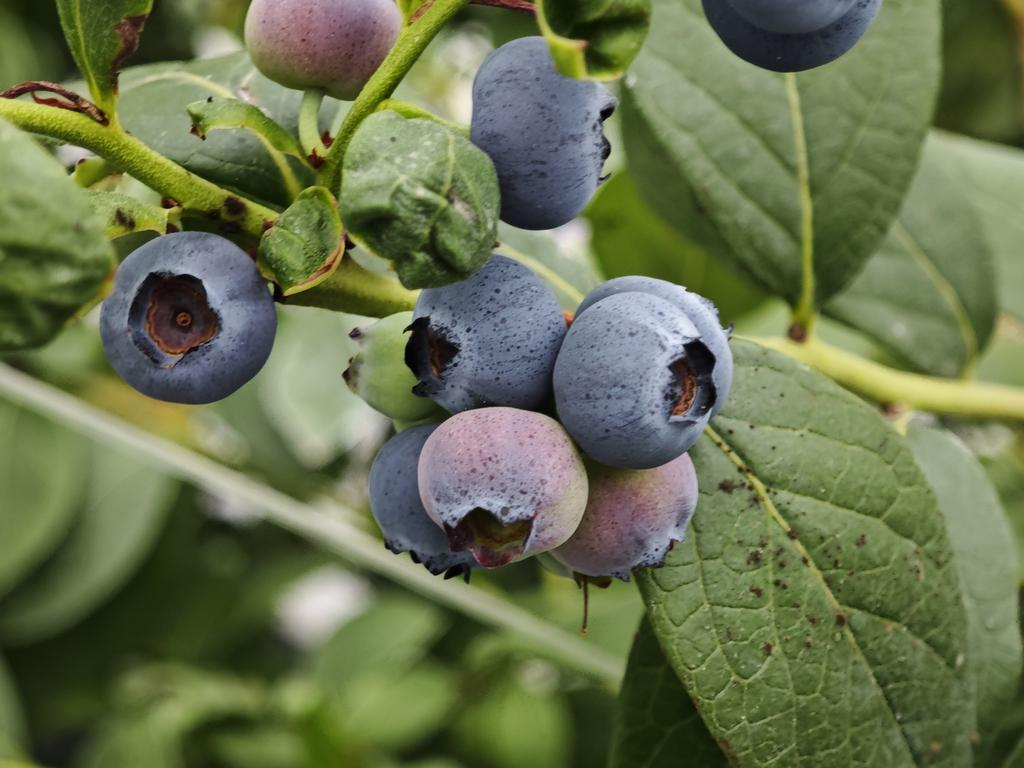RipeBlueBerry: (95, 227, 280, 408), (549, 289, 723, 473), (465, 32, 616, 234), (403, 253, 565, 416)
Semi-RipeBlueBerry: (414, 403, 592, 573)
